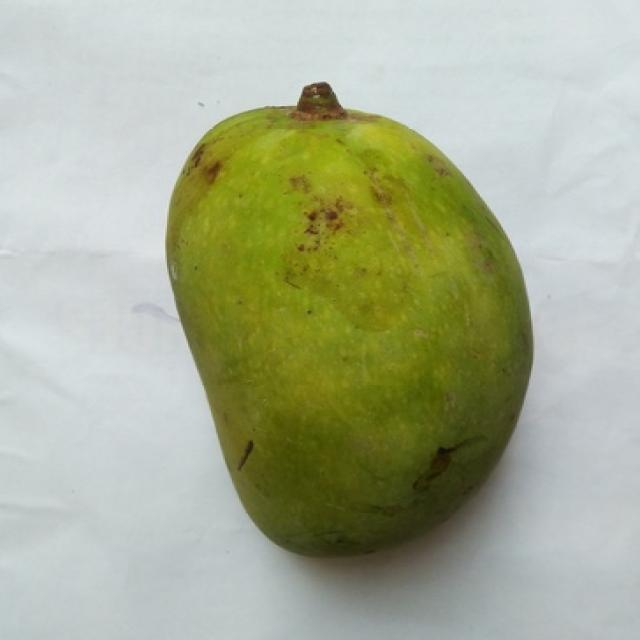Mango: (165, 84, 531, 555)
